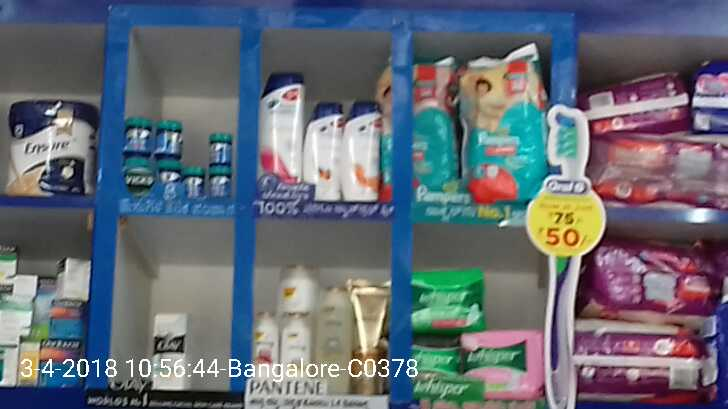vicks: (123, 114, 233, 194)
